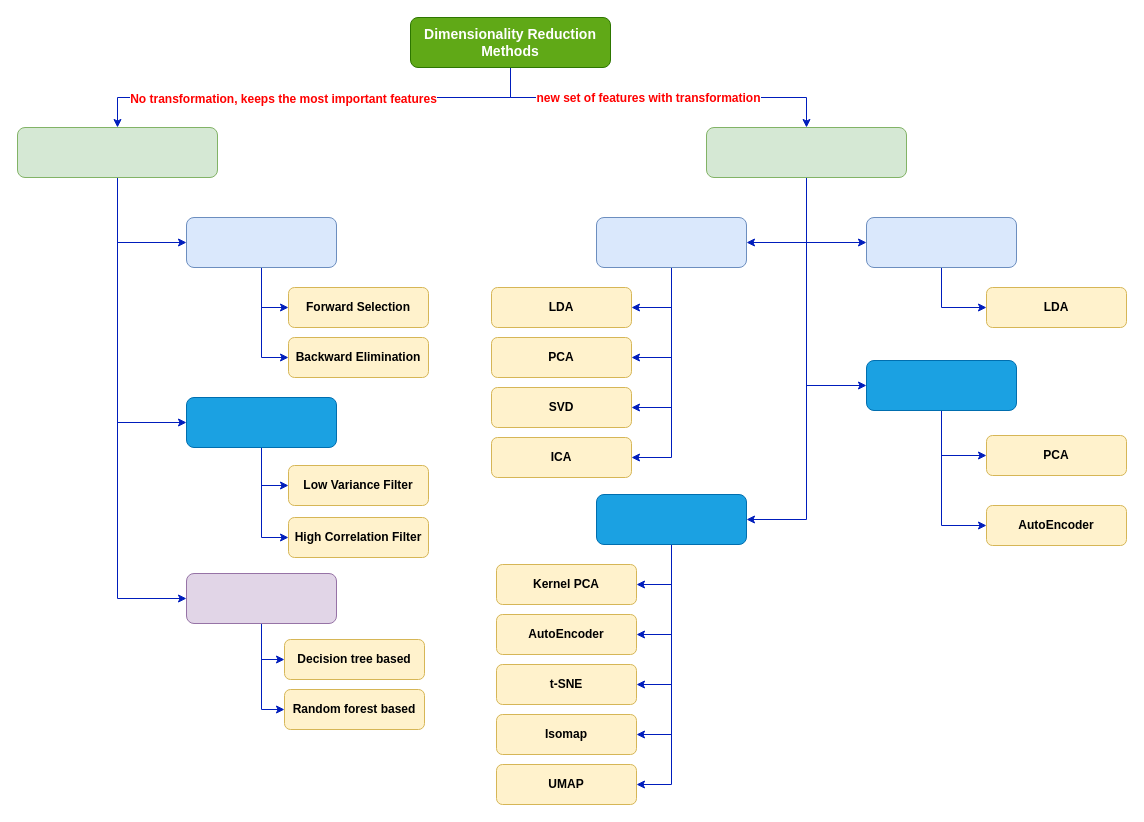
Some shapes in this 1144 by 822 pixel diagram are drawn without their labels. Here are the shapes that lost their labels. From the top down, the box of each, then its label:
(16, 126, 218, 178): Feature Selection Methods
(706, 126, 906, 178): Feature Extraction Methods
(186, 216, 336, 268): Wrapper
(596, 216, 746, 268): Linear
(866, 216, 1016, 268): Supervised
(866, 360, 1016, 410): Unsupervised
(186, 396, 336, 448): Filter
(596, 494, 746, 544): Non-linear
(186, 572, 336, 624): Embedded
